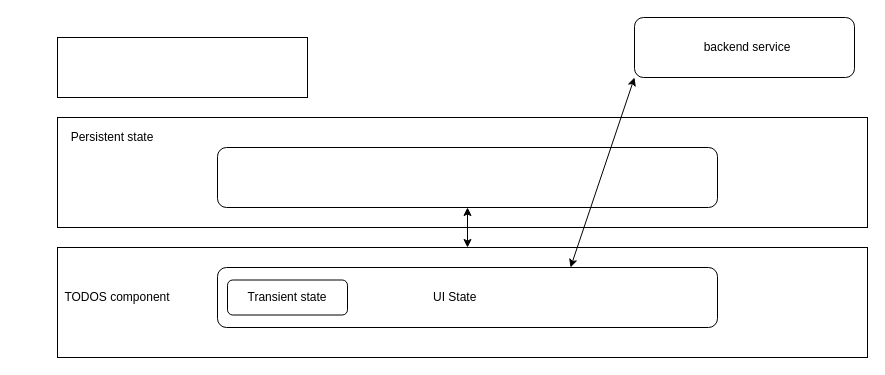
This 885x375 diagram has some shape labels left out. The shapes that lost their labels are listed below. From the top down, each one's box as (x1, y1, x2, y2) in pixels, then its label:
(56, 36, 308, 98): Router state
(216, 146, 718, 208): Redux
